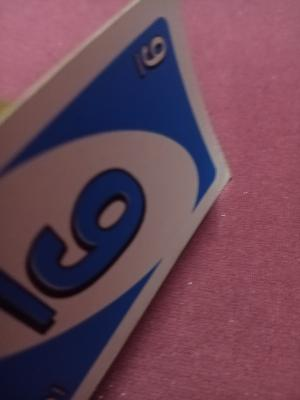blue: (19, 111, 193, 277)
